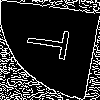T: (25, 25, 80, 63)
